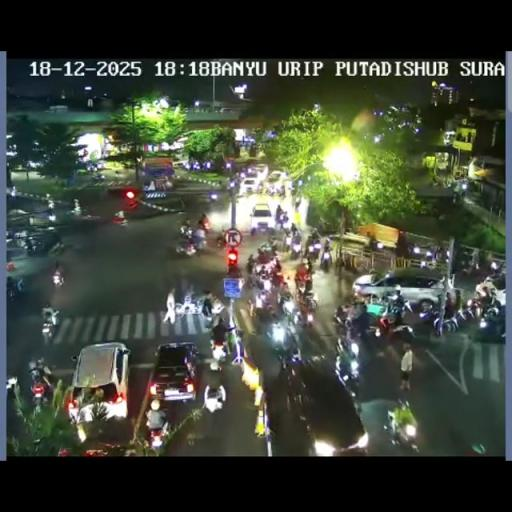Car: (68, 342, 130, 422), (148, 342, 199, 405), (249, 202, 273, 233), (108, 181, 138, 197), (239, 177, 262, 195), (250, 164, 268, 178), (267, 170, 285, 182)
Motorcycle: (279, 356, 309, 410), (370, 294, 412, 332), (435, 298, 480, 333), (386, 414, 420, 452), (249, 281, 278, 321), (27, 366, 54, 408), (252, 252, 282, 286), (145, 405, 168, 449), (201, 366, 223, 411), (339, 360, 361, 402), (296, 288, 318, 322), (280, 328, 302, 362), (41, 305, 60, 342), (173, 293, 203, 315), (333, 304, 354, 334), (352, 305, 371, 337), (202, 292, 226, 316), (174, 232, 197, 257), (66, 388, 81, 422), (277, 290, 296, 316), (482, 298, 503, 321), (210, 338, 228, 364), (294, 264, 312, 290), (164, 287, 176, 323), (5, 374, 20, 402), (306, 236, 322, 262), (486, 260, 505, 281), (474, 279, 493, 299), (319, 244, 333, 271), (49, 239, 70, 256), (458, 257, 475, 277), (288, 237, 302, 260), (434, 246, 450, 264), (275, 210, 289, 230), (367, 236, 384, 252), (6, 277, 18, 298), (24, 236, 38, 254), (193, 234, 207, 251), (408, 242, 422, 258), (52, 268, 64, 286), (113, 210, 126, 226), (197, 216, 210, 231), (90, 170, 106, 182), (215, 230, 225, 249), (310, 227, 321, 242), (246, 254, 255, 272), (181, 218, 191, 234), (290, 222, 299, 238), (276, 184, 286, 198), (266, 182, 276, 196), (269, 236, 278, 251), (16, 277, 25, 291), (208, 190, 218, 202), (294, 195, 301, 211), (86, 162, 96, 172), (452, 190, 459, 204), (286, 181, 294, 193), (425, 249, 433, 261), (48, 212, 56, 222), (216, 180, 222, 192)
